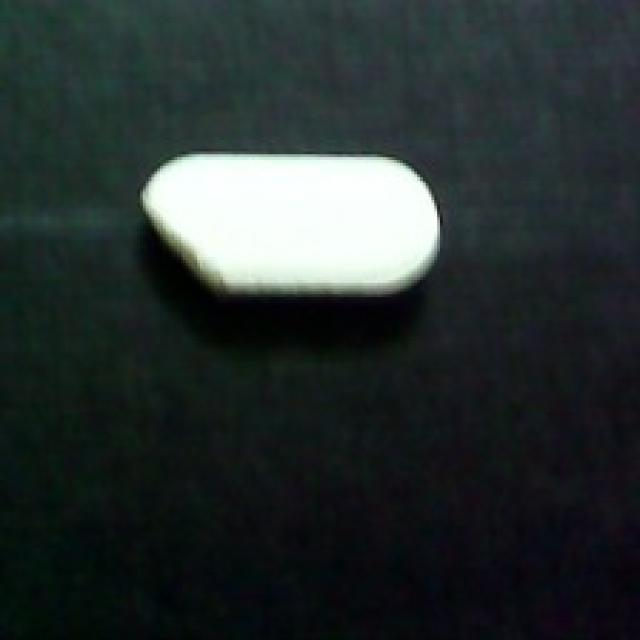defected: (123, 134, 446, 314)
